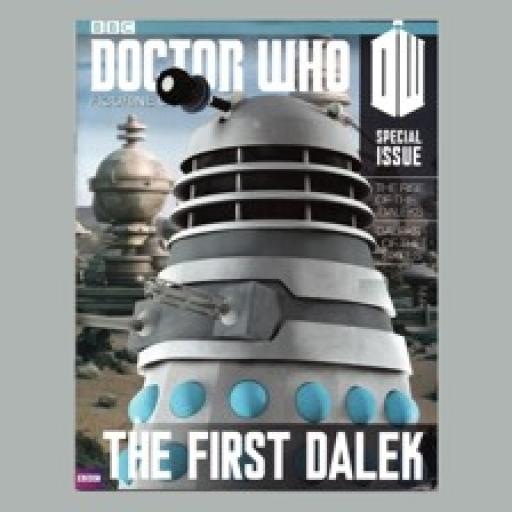dalek: (104, 67, 427, 498)
